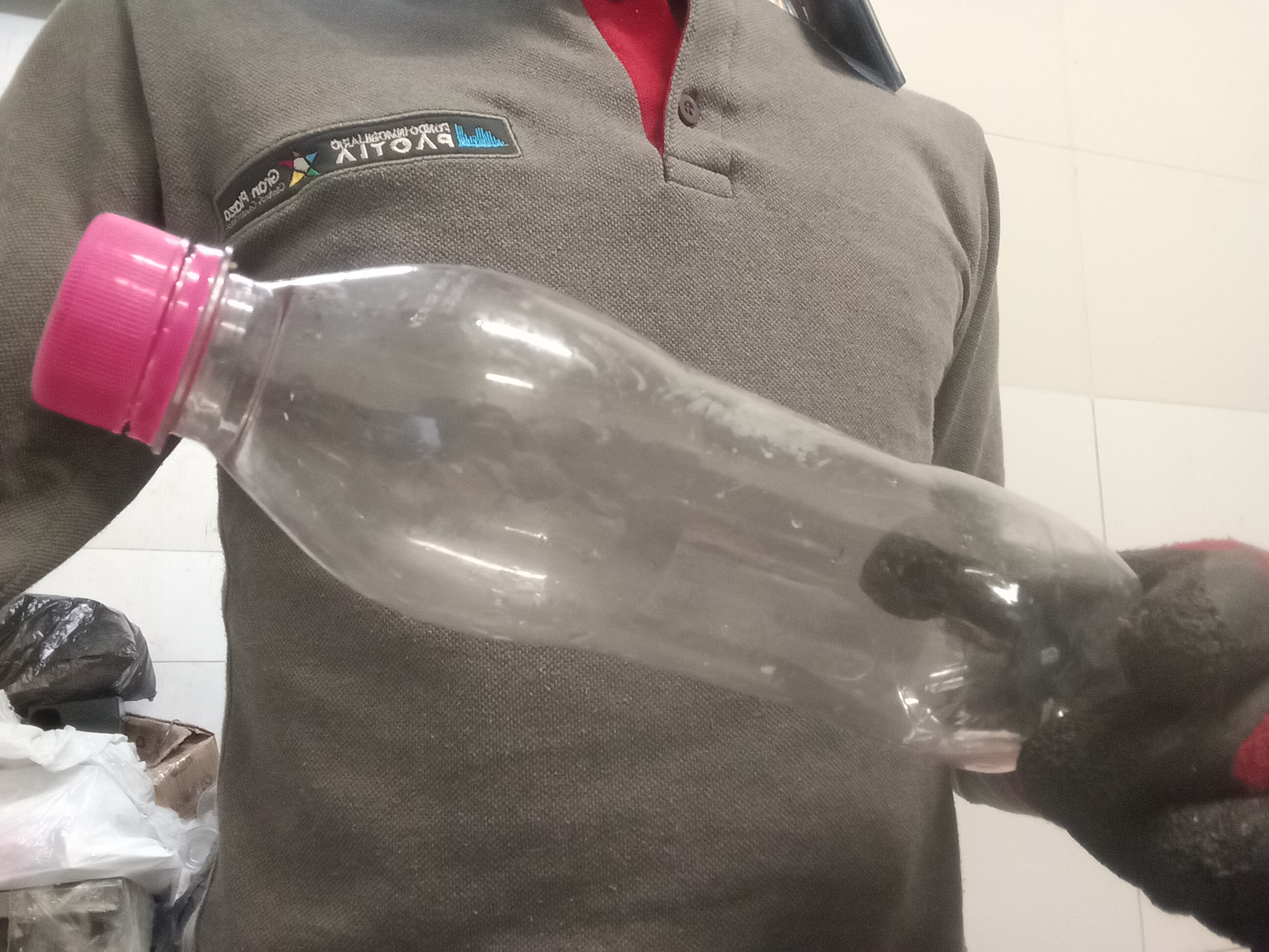Plastico: (32, 214, 1148, 775)
